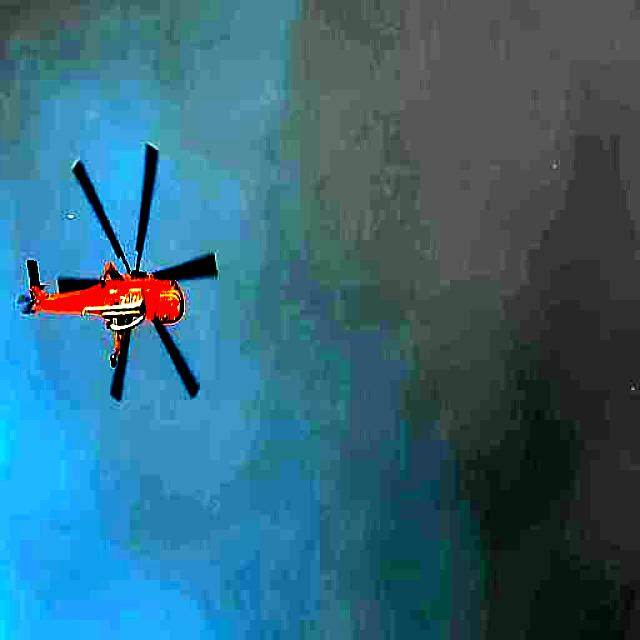drone: (15, 139, 221, 408)
